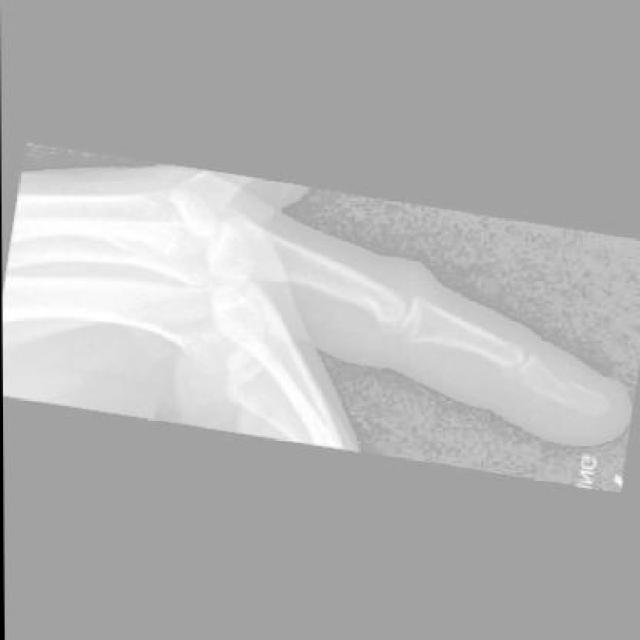Fracture: (551, 380, 590, 422)
